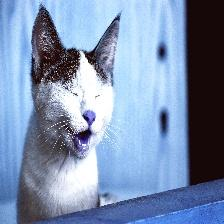kedo: (20, 8, 118, 204)
